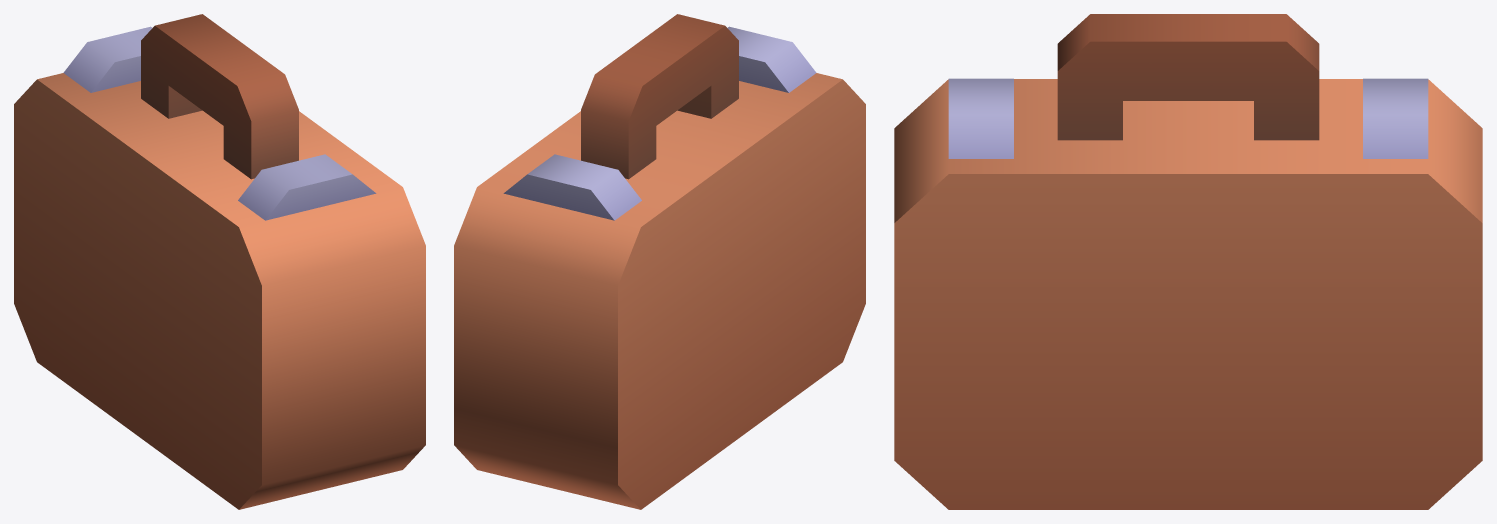
Rendered from item-luggage.obj.
3 views of the same model, side by side, from view 1: azimuth 30°, elevation 25°; view 2: azimuth 150°, elevation 25°; view 3: azimuth 270°, elevation 25° (orthographic). The views are drawn at different scales.
Visible parts, largest first — view 1: item-luggage; view 2: item-luggage; view 3: item-luggage.
Boxes of the visible parts, x1,y1,x2,y2 form: item-luggage: (14, 14, 425, 509); item-luggage: (454, 14, 865, 509); item-luggage: (894, 14, 1482, 509).
Bounding box in the file's own units: 0.1032 × 0.22 × 0.27.
1 material, 1 textured.
